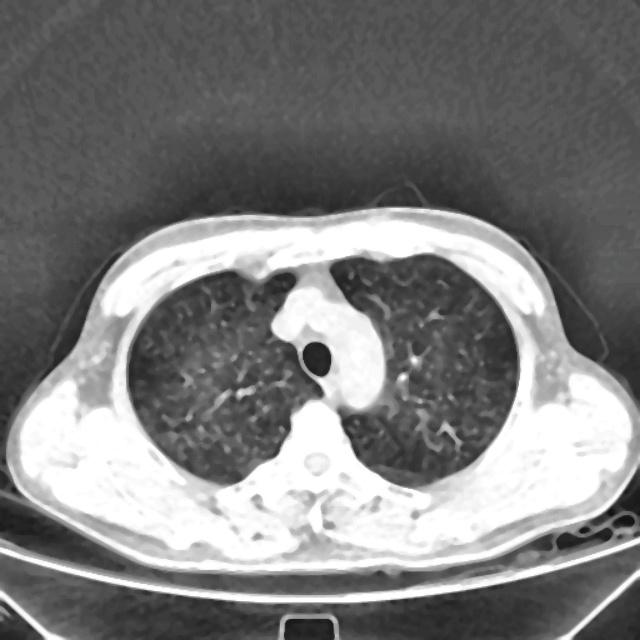covid: (4, 204, 639, 577)
